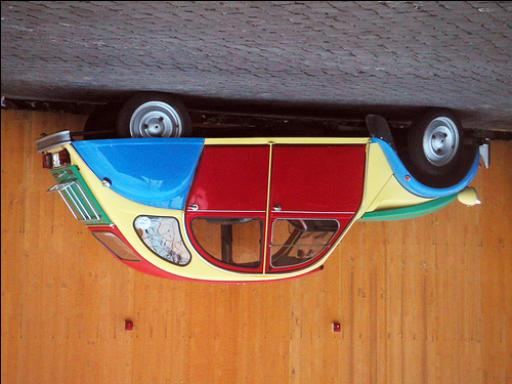Cheetah: (24, 64, 502, 303)
